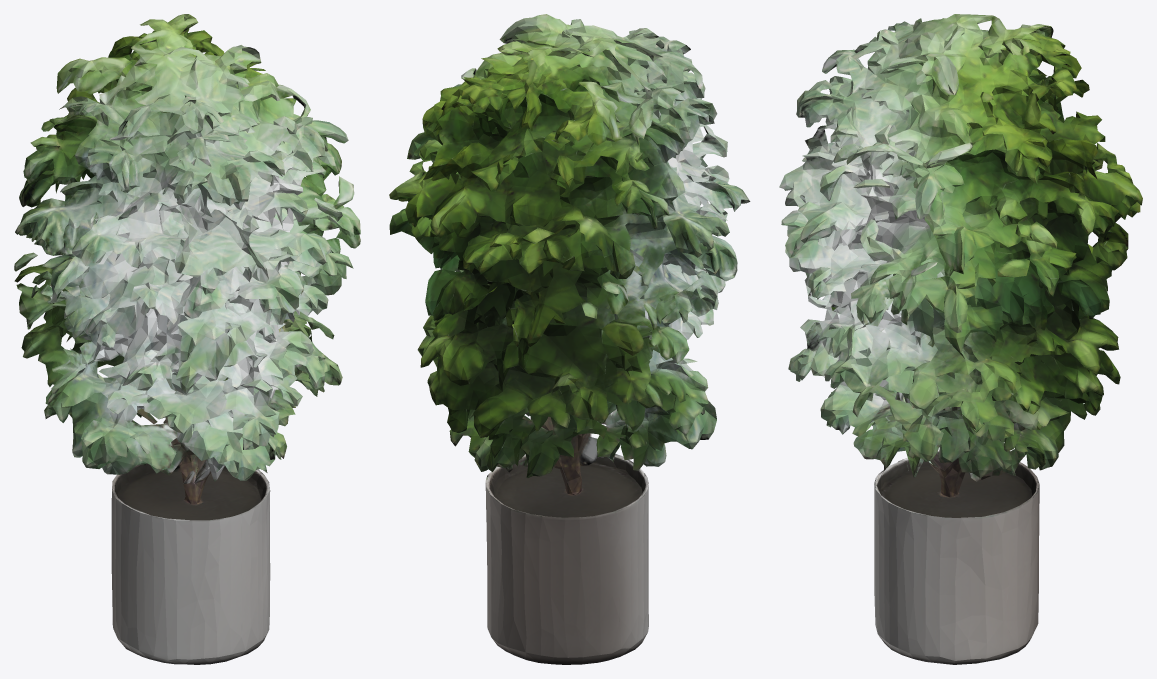
3 renders of one model, left to right at view 1: azimuth 30°, elevation 25°; view 2: azimuth 150°, elevation 25°; view 3: azimuth 270°, elevation 25°, orthographic. The views are drawn at different scales.
Parts seen in each view (by area): view 1: world; view 2: world; view 3: world.
Part boxes in pixels (bbox=[...]): world: bbox=[14, 14, 360, 664]; world: bbox=[389, 14, 750, 664]; world: bbox=[779, 14, 1142, 664].
Size of the model in its own units: 0.5549 by 1 by 0.5432.
Materials: 1 (1 with a texture image).
